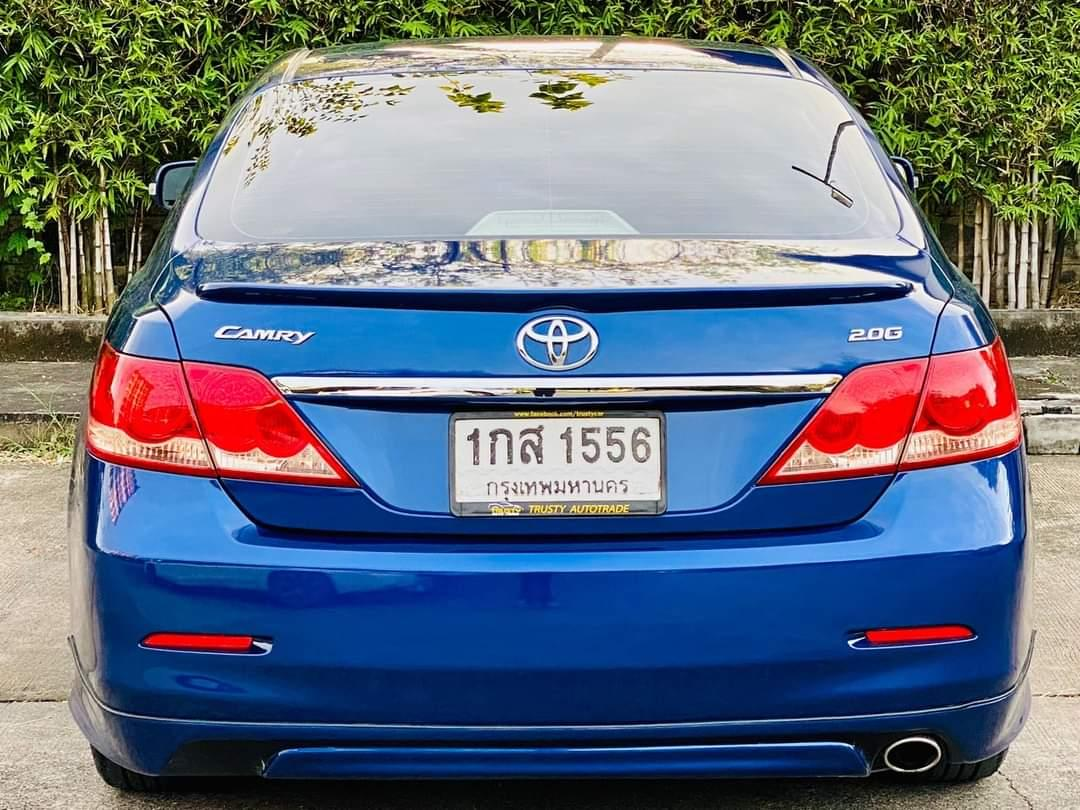license-plate: (446, 406, 667, 516)
